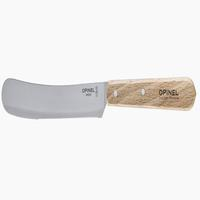knife: (2, 76, 198, 120)
